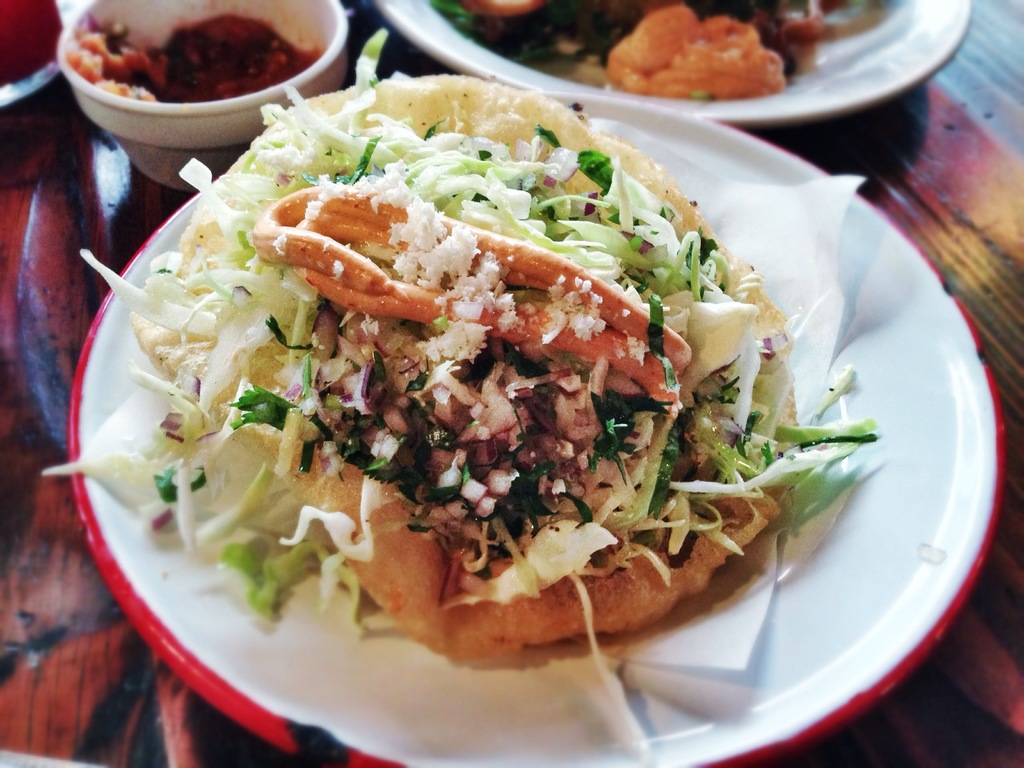salad: (38, 24, 890, 764)
